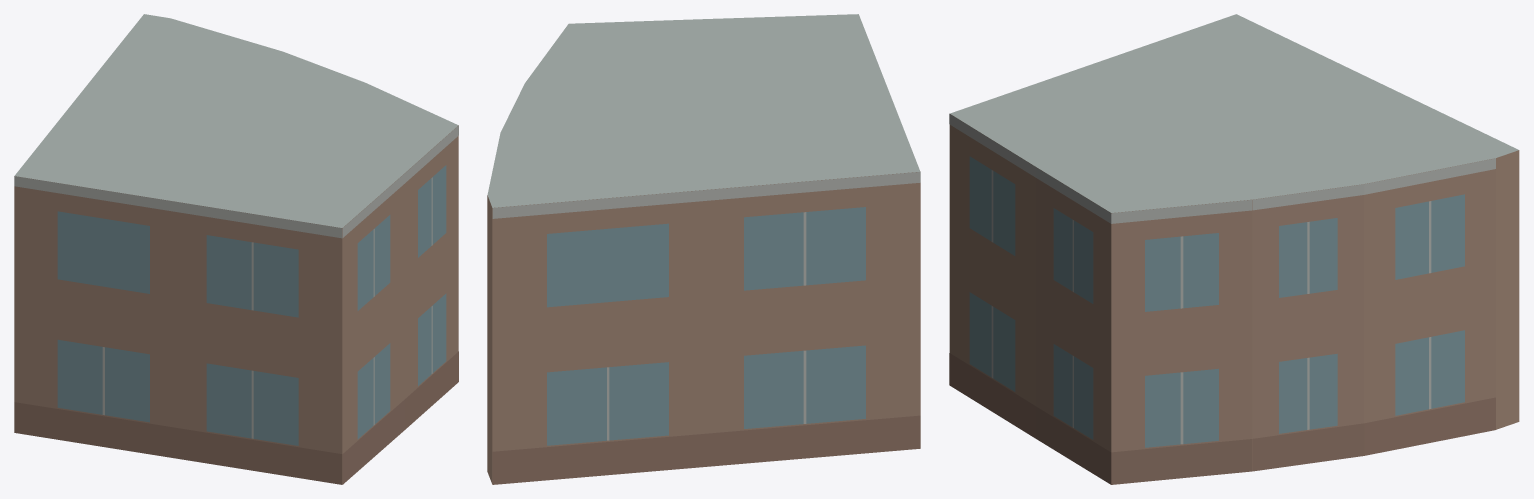
Rendered from survey-upis-32465334.glb.
3 views of the same model, side by side, from view 1: azimuth 30°, elevation 25°; view 2: azimuth 150°, elevation 25°; view 3: azimuth 270°, elevation 25° (orthographic). The views are drawn at different scales.
Visible parts, largest first — view 1: survey-upis-32465334.tmp; view 2: survey-upis-32465334.tmp; view 3: survey-upis-32465334.tmp.
Boxes of the visible parts, x1=… form: survey-upis-32465334.tmp: x1=14, y1=14, x2=458, y2=484; survey-upis-32465334.tmp: x1=487, y1=14, x2=920, y2=484; survey-upis-32465334.tmp: x1=949, y1=14, x2=1519, y2=484.
Size of the model in its own units: 9.59 by 6.1 by 11.6.
